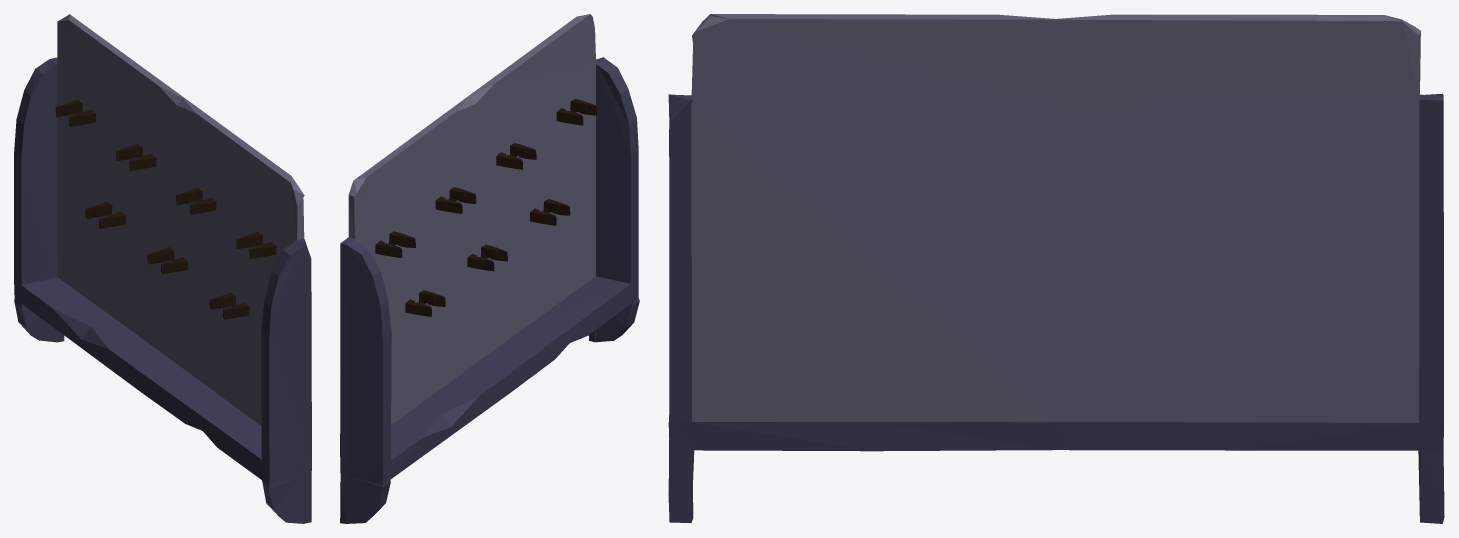
File: SFFA_Tool_Stand_003.fbx
The picture shows the model from 3 angles, left to right: view 1: azimuth 30°, elevation 25°; view 2: azimuth 150°, elevation 25°; view 3: azimuth 270°, elevation 25°; orthographic projection. The views are drawn at different scales.
Visible parts, largest first — view 1: SFFA_Tool_Stand_003; view 2: SFFA_Tool_Stand_003; view 3: SFFA_Tool_Stand_003.
Boxes of the visible parts, box(x1,y1,x2,y2) form: SFFA_Tool_Stand_003: box(14, 14, 311, 523); SFFA_Tool_Stand_003: box(340, 14, 639, 523); SFFA_Tool_Stand_003: box(668, 14, 1444, 523).
Bounding box in the file's own units: 12.19 × 88.03 × 123.
